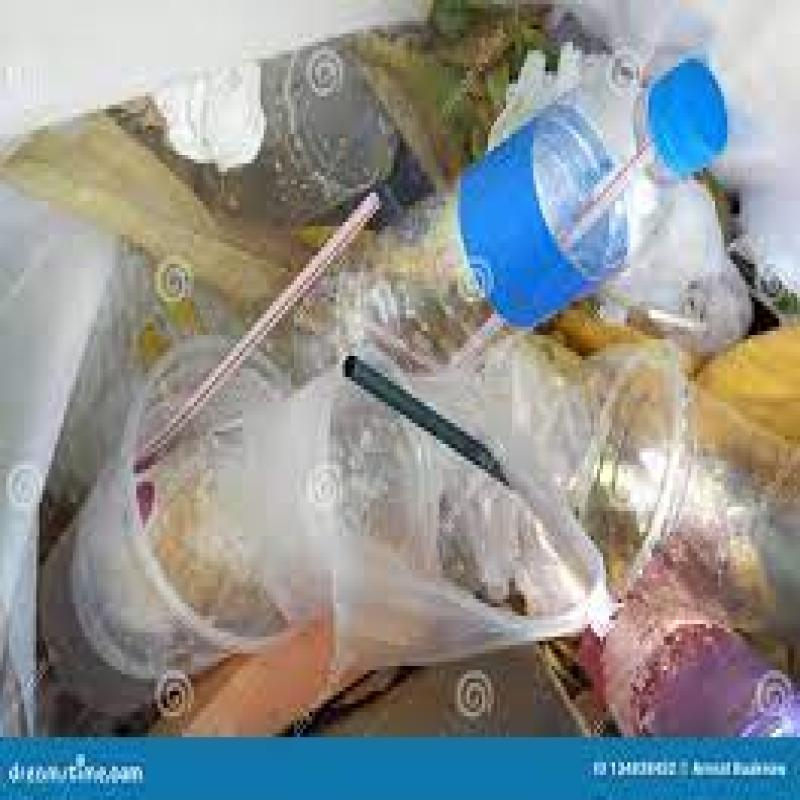botella: (292, 38, 733, 389)
